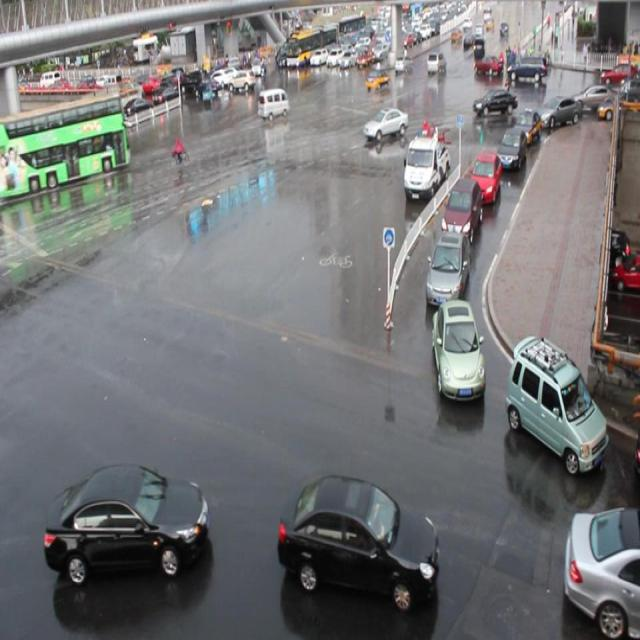bus: (400, 129, 450, 203)
car: (276, 471, 436, 608), (44, 462, 209, 578), (503, 327, 609, 472), (562, 503, 640, 640), (431, 298, 484, 400), (424, 228, 468, 304), (440, 175, 480, 240), (468, 150, 499, 204), (472, 86, 517, 118), (537, 96, 580, 129), (363, 105, 408, 136), (494, 127, 524, 169), (512, 107, 542, 143)
truck: (257, 86, 289, 119)
van: (1, 95, 130, 191)
